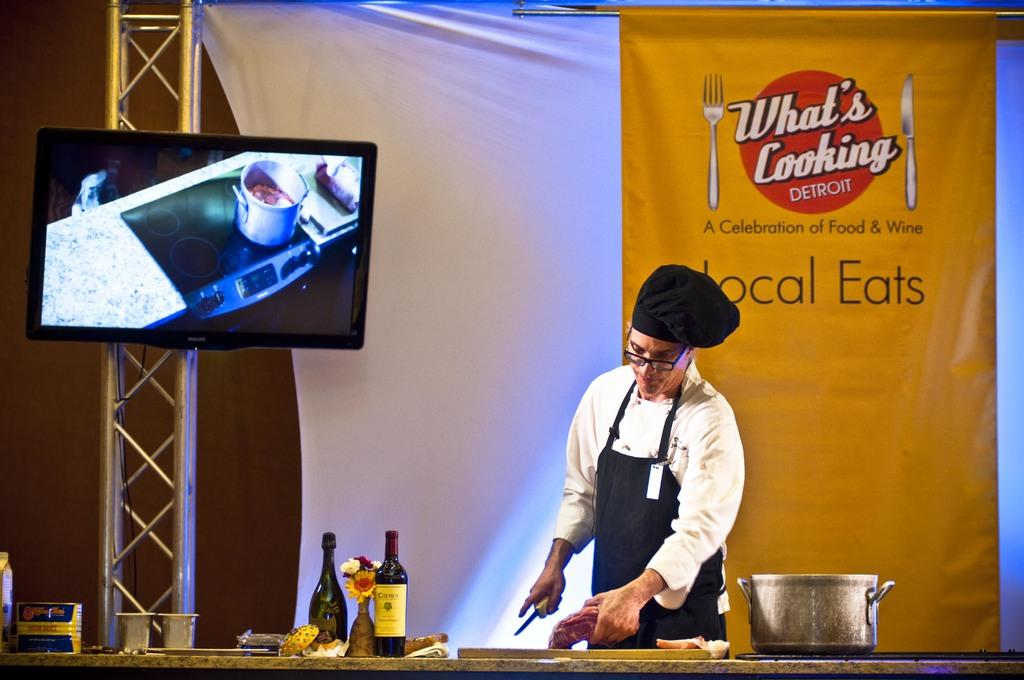Computer-monitor: (80, 132, 359, 337)
